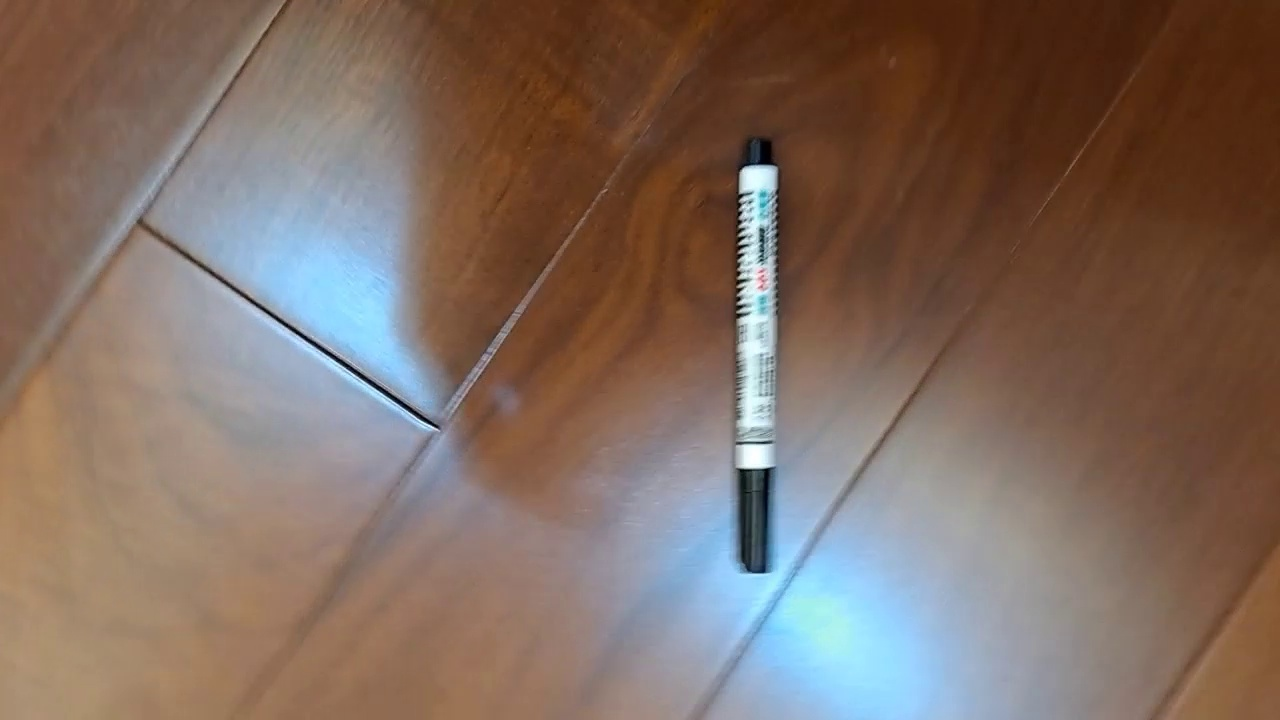pen: (733, 135, 781, 575)
